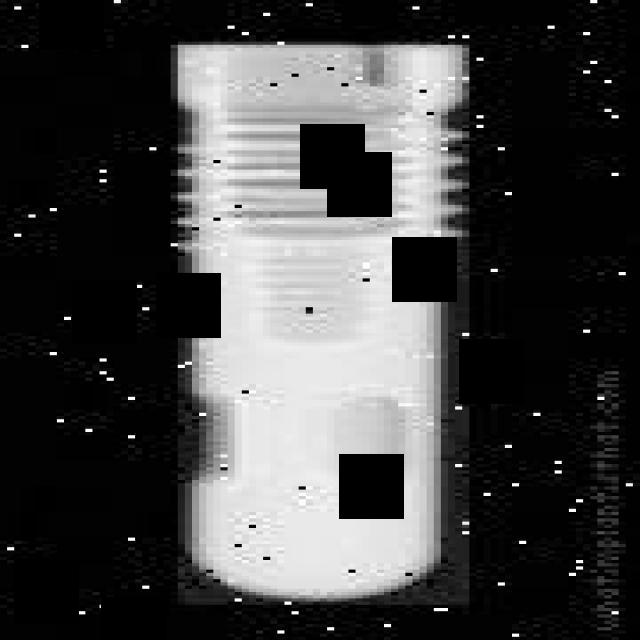Root canal obturation: (172, 45, 469, 606)
